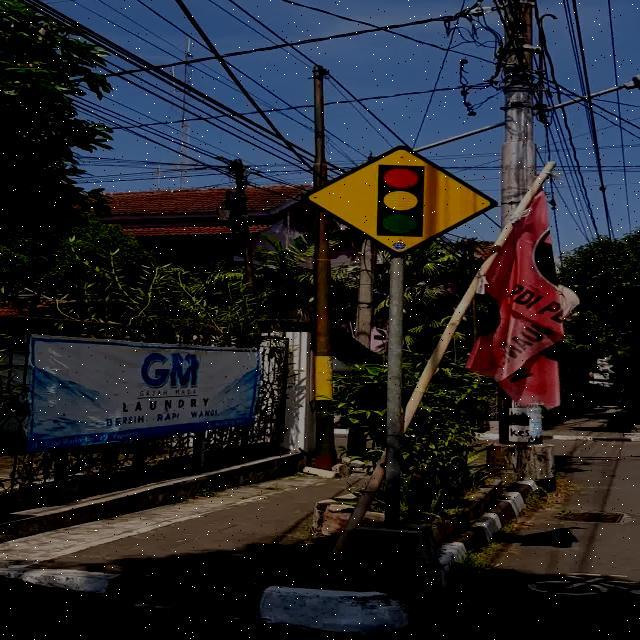Lampu Lalu Lintas: (301, 146, 499, 256)
